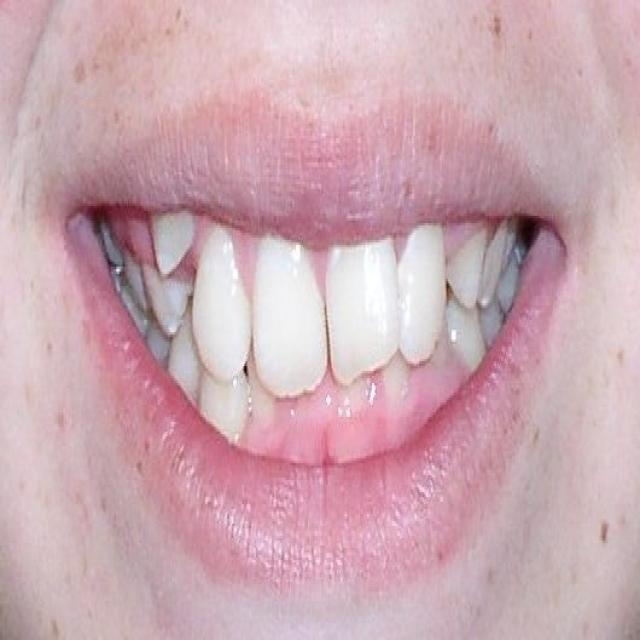tooth: (250, 242, 326, 388), (188, 228, 252, 385), (326, 248, 400, 368), (479, 215, 518, 312), (205, 369, 251, 446), (446, 293, 484, 359), (174, 330, 204, 410), (453, 220, 479, 312), (153, 211, 192, 269), (146, 276, 182, 325), (124, 257, 145, 318), (483, 298, 508, 339), (145, 332, 171, 364), (504, 255, 519, 298)
